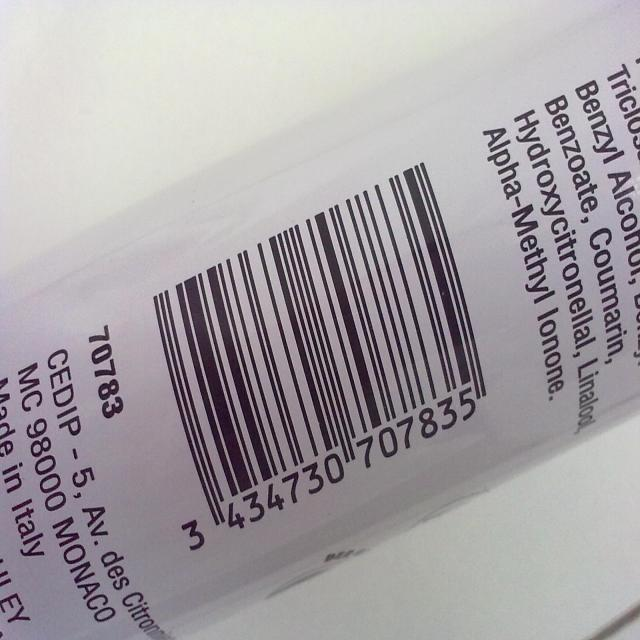barcode: (154, 161, 486, 587)
